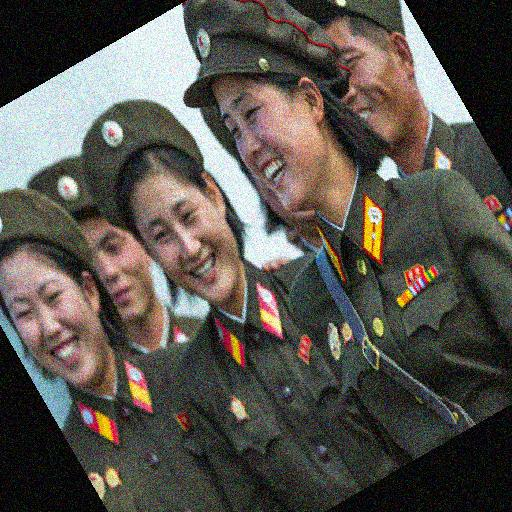north army: (4, 31, 500, 509)
